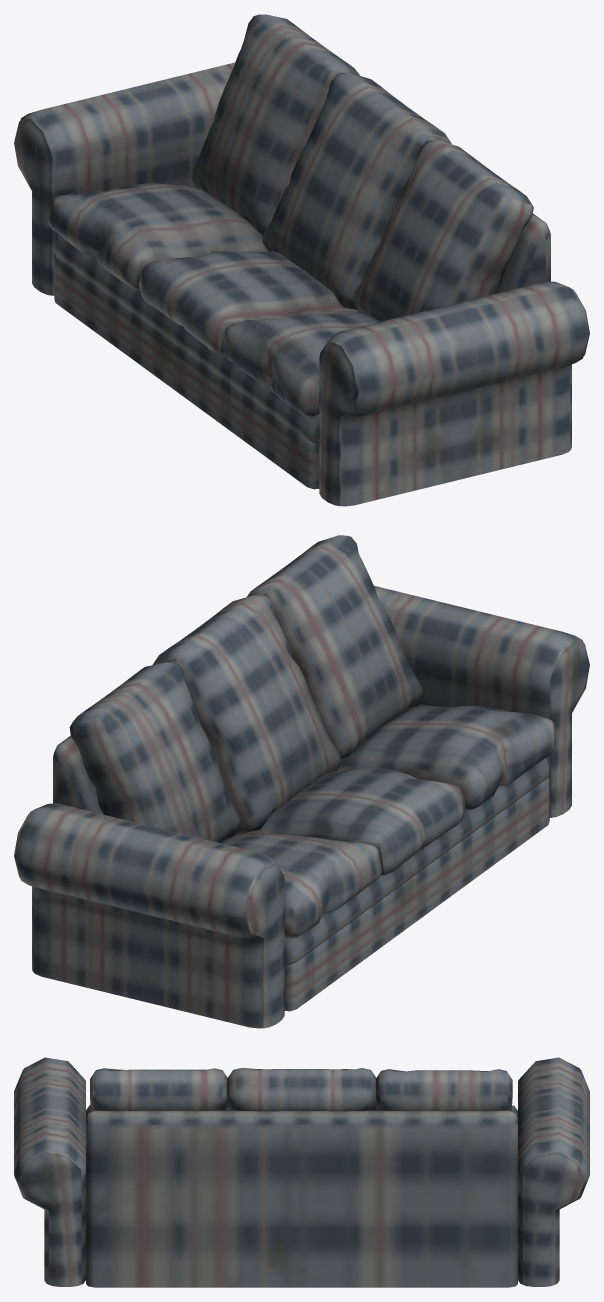
The model's file is SM_Sofa_large.fbx.
3 renders of one model, top to bottom at view 1: azimuth 30°, elevation 25°; view 2: azimuth 150°, elevation 25°; view 3: azimuth 270°, elevation 25°, orthographic. The views are drawn at different scales.
Parts seen in each view (by area): view 1: SM_Sofa_large.001; view 2: SM_Sofa_large.001; view 3: SM_Sofa_large.001.
Part boxes in pixels (x1,y1,x2,y2): SM_Sofa_large.001: (14, 14, 589, 506); SM_Sofa_large.001: (14, 535, 589, 1028); SM_Sofa_large.001: (14, 1057, 589, 1287).
Bounding box in the file's own units: 92.59 × 224 × 86.75.
